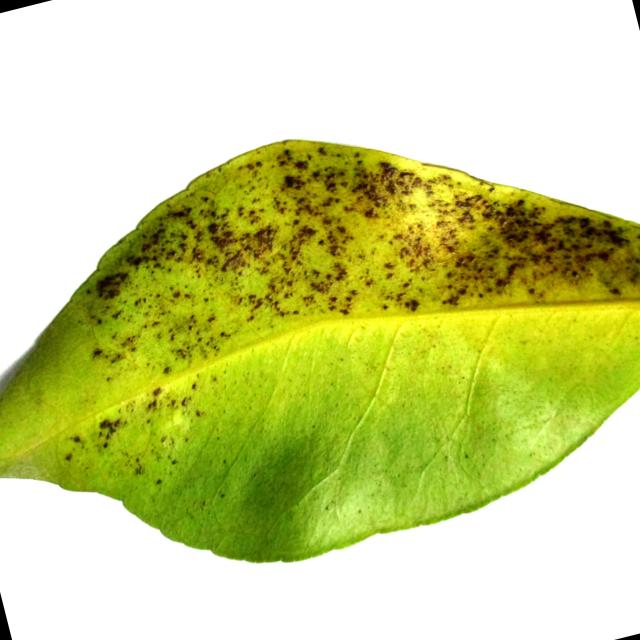melanose: (0, 140, 640, 561)
